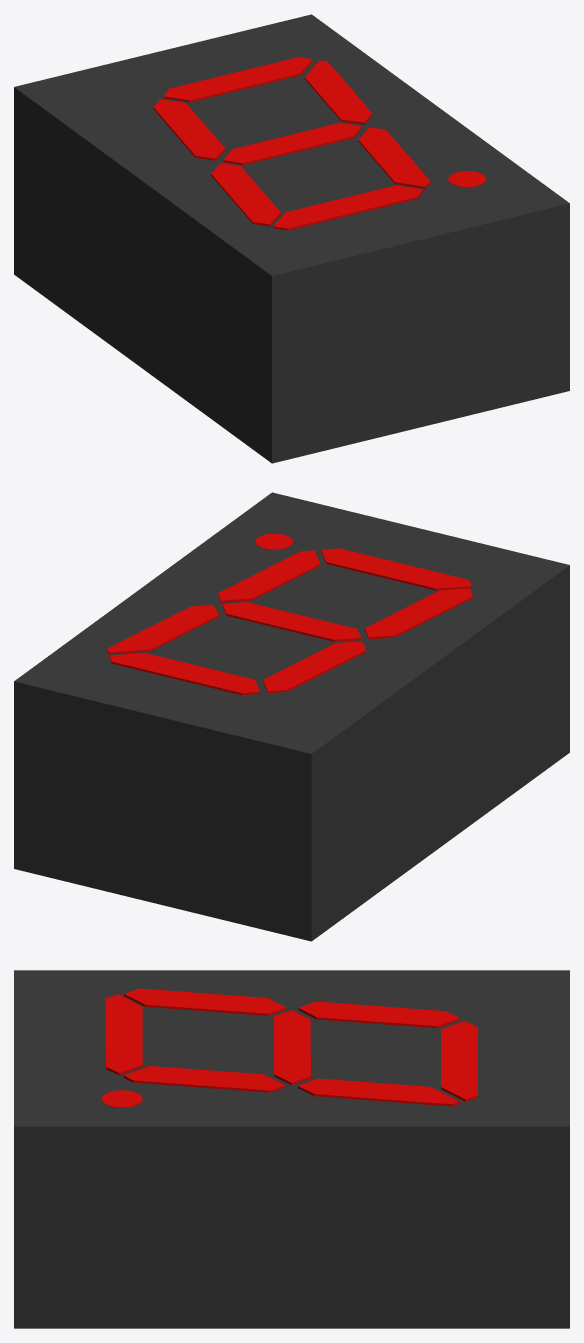
The picture shows the model from 3 angles, top to bottom: view 1: azimuth 30°, elevation 25°; view 2: azimuth 150°, elevation 25°; view 3: azimuth 270°, elevation 25°; orthographic projection. The views are drawn at different scales.
Parts seen in each view (by area): view 1: Plane, D, A, G, E, F, C, B; view 2: Plane, D, A, G, B, E, F, C; view 3: Plane, D, E, A, F, B, C, G, dot.
Boxes of the visible parts, left/top/right/bottom form: Plane: left=14, top=14, right=569, bottom=463; D: left=273, top=185, right=422, bottom=230; A: left=163, top=57, right=312, bottom=102; G: left=223, top=123, right=361, bottom=165; E: left=211, top=163, right=280, bottom=226; F: left=153, top=99, right=225, bottom=160; C: left=358, top=127, right=430, bottom=188; B: left=304, top=60, right=372, bottom=124; Plane: left=14, top=492, right=569, bottom=941; D: left=321, top=548, right=471, bottom=590; A: left=109, top=653, right=259, bottom=695; G: left=222, top=602, right=360, bottom=641; B: left=107, top=605, right=219, bottom=654; E: left=365, top=588, right=472, bottom=639; F: left=263, top=641, right=365, bottom=693; C: left=218, top=550, right=320, bottom=602; Plane: left=14, top=970, right=569, bottom=1328; D: left=105, top=994, right=142, bottom=1075; E: left=124, top=988, right=286, bottom=1015; A: left=441, top=1021, right=477, bottom=1101; F: left=298, top=1001, right=459, bottom=1028; B: left=298, top=1078, right=459, bottom=1106; C: left=123, top=1066, right=285, bottom=1092; G: left=274, top=1010, right=310, bottom=1084; dot: left=102, top=1090, right=142, bottom=1107.
Size of the model in its own units: 299 by 182 by 449.
